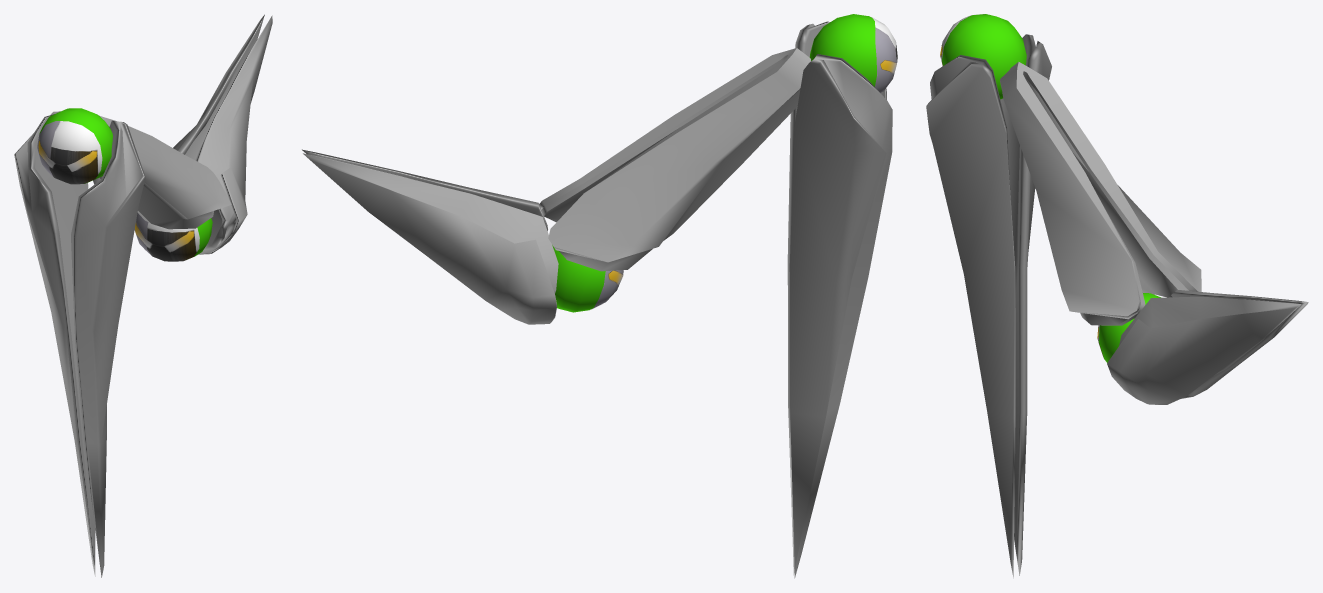
The model's file is Spiderbossleg.fbx.
3 renders of one model, left to right at view 1: azimuth 30°, elevation 25°; view 2: azimuth 150°, elevation 25°; view 3: azimuth 270°, elevation 25°, orthographic. The views are drawn at different scales.
Visible parts, largest first — view 1: RIGHTLEGS_LEGmain2_legmid_legend_polySurface38, polySurface33, polySurface34, polySurface36, polySurface32; view 2: RIGHTLEGS_LEGmain2_legmid_legend_polySurface38, polySurface34, polySurface33, polySurface36, polySurface32; view 3: RIGHTLEGS_LEGmain2_legmid_legend_polySurface38, polySurface34, polySurface33, polySurface36, polySurface32.
Boxes of the visible parts, x1,y1,x2,y2 form: RIGHTLEGS_LEGmain2_legmid_legend_polySurface38: (14, 111, 145, 577); polySurface33: (173, 14, 272, 254); polySurface34: (93, 115, 231, 229); polySurface36: (37, 108, 112, 184); polySurface32: (134, 213, 212, 261); RIGHTLEGS_LEGmain2_legmid_legend_polySurface38: (787, 21, 892, 578); polySurface34: (539, 48, 810, 271); polySurface33: (302, 149, 558, 324); polySurface36: (809, 14, 897, 92); polySurface32: (552, 245, 623, 312); RIGHTLEGS_LEGmain2_legmid_legend_polySurface38: (926, 34, 1051, 578); polySurface34: (1000, 62, 1201, 325); polySurface33: (1107, 289, 1308, 404); polySurface36: (940, 14, 1026, 99); polySurface32: (1097, 293, 1160, 362).
Size of the model in its own units: 35.32 by 43.43 by 27.94.
3 materials, 1 textured.
